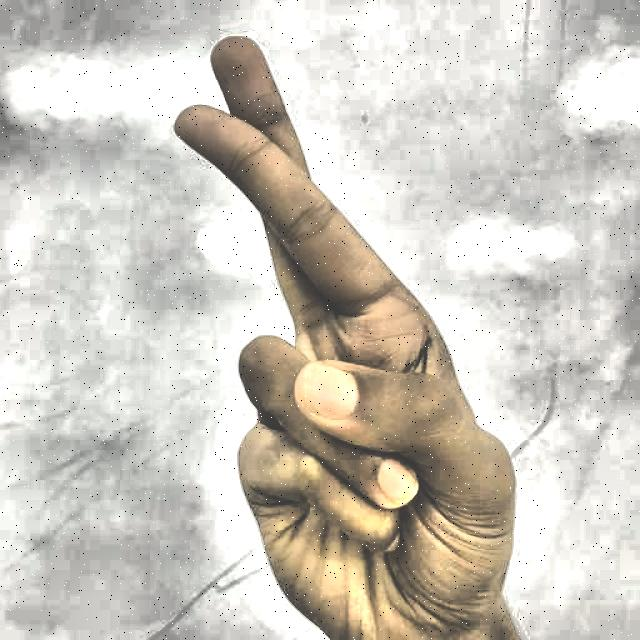Ra: (119, 14, 542, 639)
